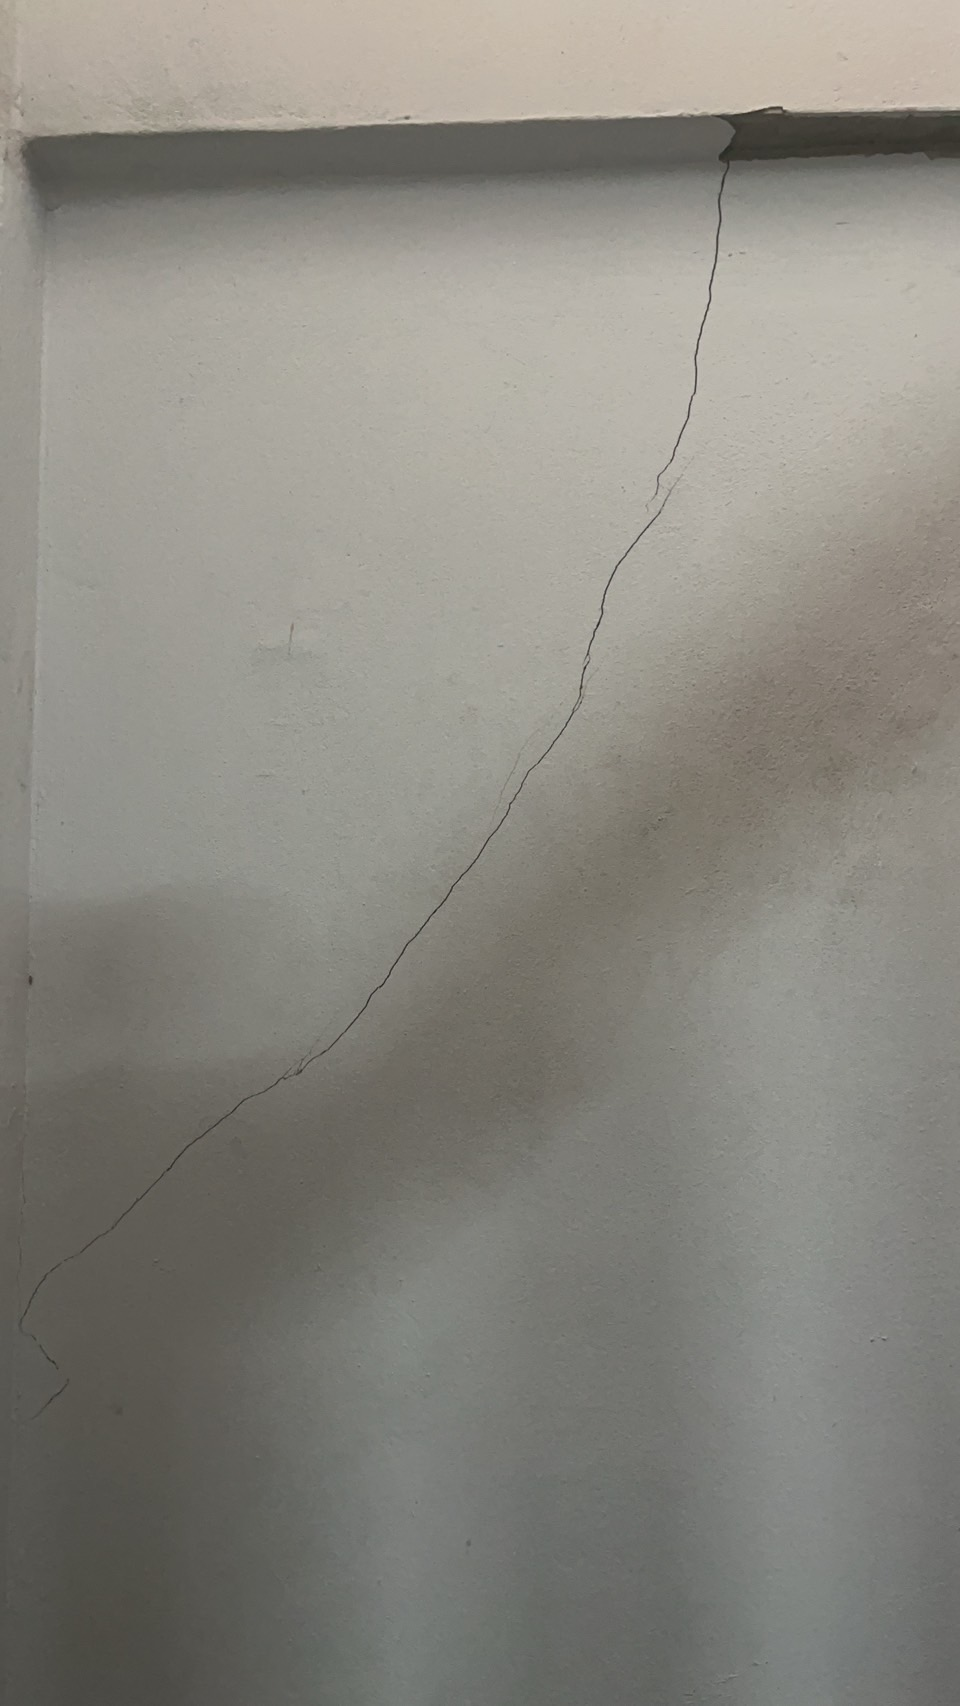Low: (4, 148, 783, 1439)
